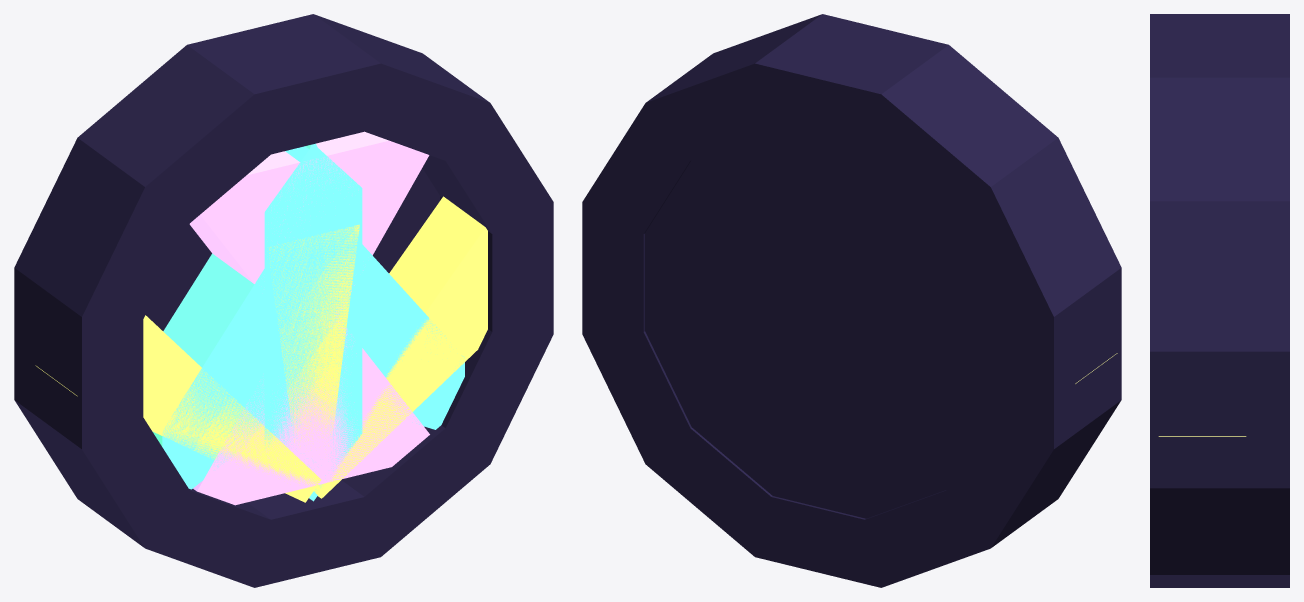
The model's file is pickups.glb.
The picture shows the model from 3 angles, left to right: view 1: azimuth 30°, elevation 25°; view 2: azimuth 150°, elevation 25°; view 3: azimuth 270°, elevation 25°; orthographic projection. The views are drawn at different scales.
Parts seen in each view (by area): view 1: helper_ring, spread_icon, helper_icon, slow_icon, laser_icon; view 2: helper_ring; view 3: helper_ring.
Part boxes in pixels (bbox=[...]): helper_ring: bbox=[14, 14, 553, 587]; spread_icon: bbox=[35, 196, 487, 502]; helper_icon: bbox=[152, 143, 464, 489]; slow_icon: bbox=[189, 131, 429, 505]; laser_icon: bbox=[264, 144, 362, 501]; helper_ring: bbox=[582, 14, 1121, 587]; helper_ring: bbox=[1150, 14, 1289, 587].
Bounding box in the file's own units: 9.67 × 9.66 × 2.4.
